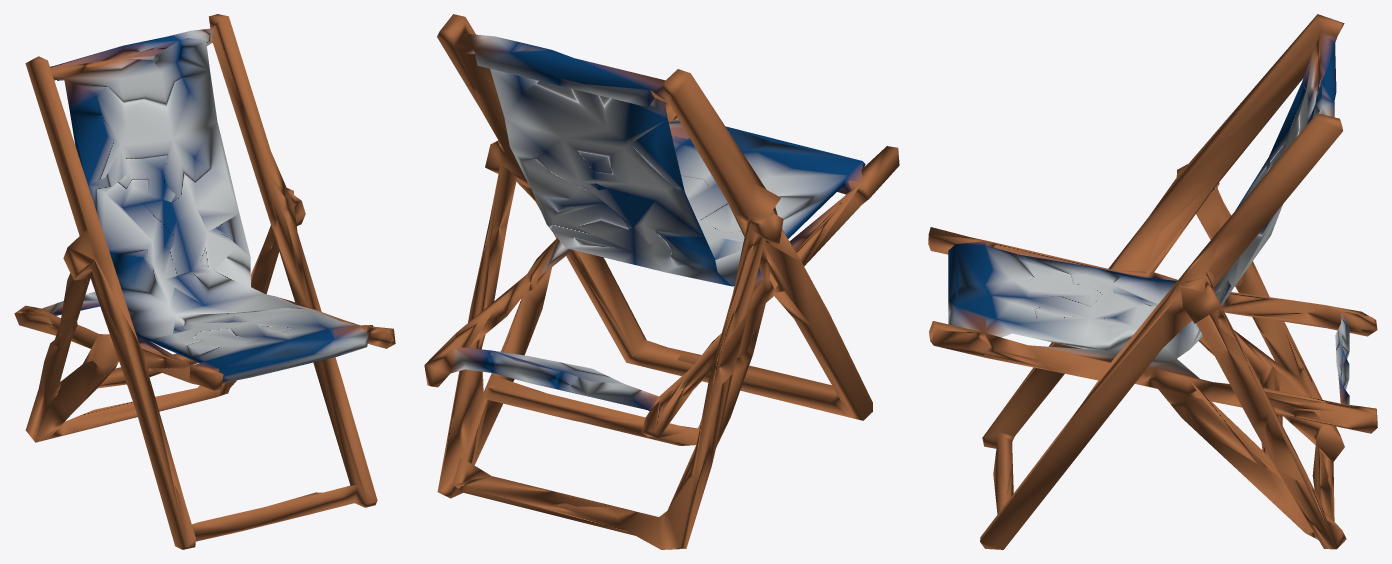
File: gen3d-beach-chair-lod1.glb
3 renders of one model, left to right at view 1: azimuth 30°, elevation 25°; view 2: azimuth 150°, elevation 25°; view 3: azimuth 270°, elevation 25°, orthographic. The views are drawn at different scales.
Parts seen in each view (by area): view 1: part_0; view 2: part_0; view 3: part_0.
Boxes of the visible parts, x1,y1,x2,y2 form: part_0: (14,14,395,549); part_0: (424,14,899,549); part_0: (928,14,1377,549).
Bounding box in the file's own units: 0.6193 × 0.9956 × 0.9398.
